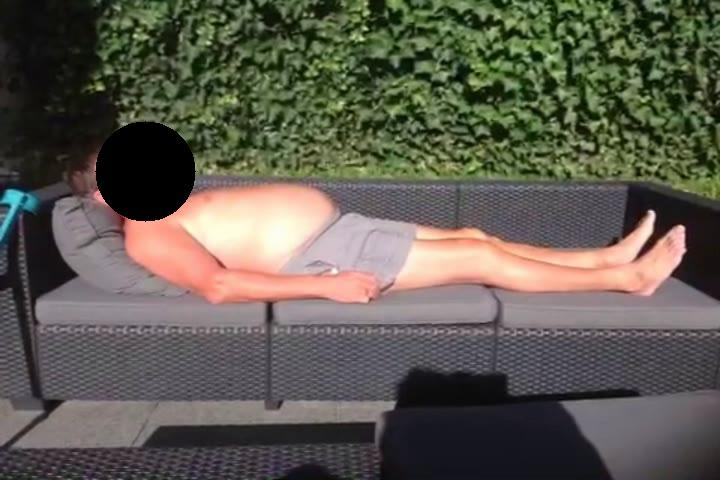lower_body: (321, 207, 689, 300)
